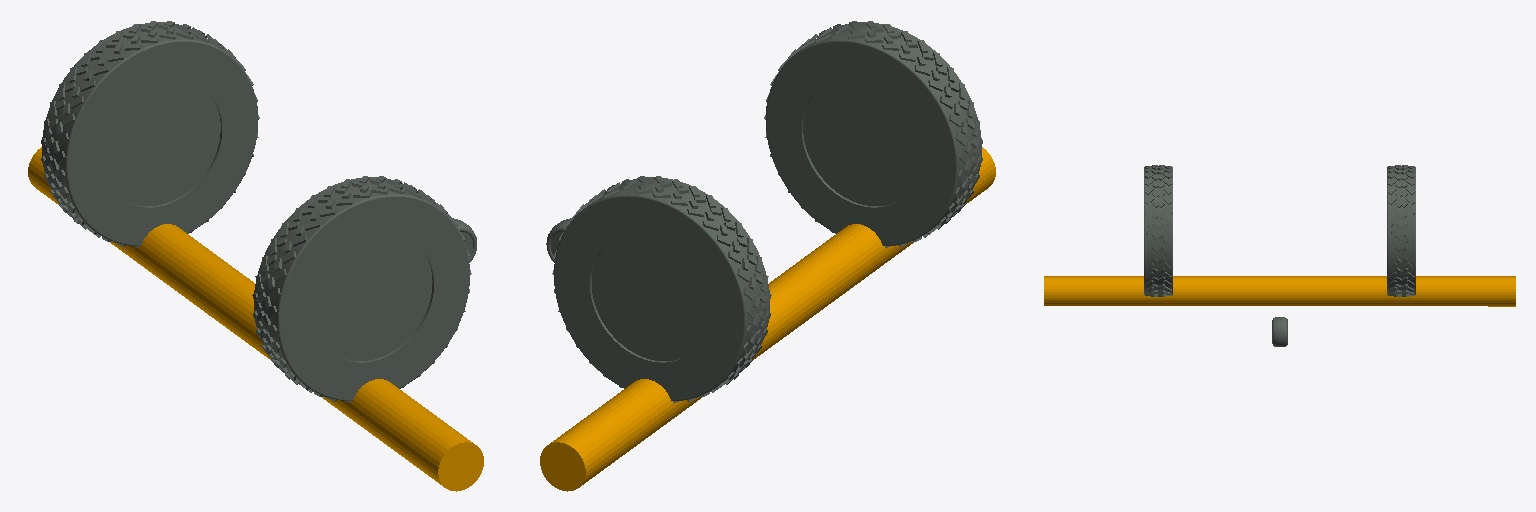
robot.urdf — my_robot:
<?xml version="1.0" ?>
<!-- =================================================================================== -->
<!-- |    This document was autogenerated by xacro from robot.xacro                    | -->
<!-- |    EDITING THIS FILE BY HAND IS NOT RECOMMENDED                                 | -->
<!-- =================================================================================== -->
<robot name="my_robot">
  <link name="base_link">
    <visual>
      <origin rpy="1.57075 0.0 0.0" xyz="0.0 0.0 0.0"/>
      <geometry>
        <cylinder length="0.62" radius="0.02"/>
      </geometry>
    </visual>
  </link>
  <!-- Material Definitions -->
  <material name="black">
    <color rgba="0.0 0.0 0.0 1.0"/>
  </material>
  <material name="white">
    <color rgba="1.0 1.0 1.0 1.0"/>
  </material>
  <material name="blue">
    <color rgba="0.0 0.0 1.0 1.0"/>
  </material>
  <material name="green">
    <color rgba="0.0 1.0 0.0 1.0"/>
  </material>
  <material name="roda">
    <color rgba="0.4 0.4313 0.40784 1.0"/>
  </material>
  <!-- Link Definitions -->
  <link name="body_link">
    <visual>
      <origin rpy="0.0 0.0 0.0" xyz="0.0 0.0 0.0875"/>
      <geometry>
        <mesh filename="package://my_robot_description/meshes/UpperBody1v13.stl" scale="1 1 1"/>
      </geometry>
      <material name="black"/>
    </visual>
    <collision>
      <origin rpy="0.0 0.0 0.0" xyz="0.0 0.0 0.0875"/>
      <geometry>
        <mesh filename="package://my_robot_description/meshes/UpperBody1v13.stl" scale="1 1 1"/>
      </geometry>
    </collision>
    <inertial>
      <origin rpy="0.0 0.0 0.0" xyz="0.0 0.0 0.0875"/>
      <mass value="1.0"/>
      <inertia ixx="1" ixy="0" ixz="0" iyy="1" iyz="0" izz="1"/>
    </inertial>
  </link>
  <link name="right_wheel">
    <visual>
      <origin rpy="0.0 0.0 0" xyz="0.0 0 0"/>
      <geometry>
        <mesh filename="package://my_robot_description/meshes/wheel.stl" scale="1 1 1"/>
      </geometry>
      <material name="roda"/>
    </visual>
    <collision>
      <origin rpy="0.0 0.0 0" xyz="0.0 0 0"/>
      <geometry>
        <mesh filename="package://my_robot_description/meshes/wheel.stl" scale="1 1 1"/>
      </geometry>
    </collision>
    <inertial>
      <mass value="0.5"/>
      <origin rpy="0.0 0.0 0" xyz="0.0 0 0"/>
      <inertia ixx="0.001" ixy="0.0" ixz="0.0" iyy="0.001" iyz="0.0" izz="0.001"/>
    </inertial>
  </link>
  <link name="left_wheel">
    <visual>
      <origin rpy="0.0 0.0 0" xyz="0.0 0 0"/>
      <geometry>
        <mesh filename="package://my_robot_description/meshes/wheel.stl" scale="1 1 1"/>
      </geometry>
      <material name="roda"/>
    </visual>
    <collision>
      <origin rpy="0.0 0.0 0" xyz="0.0 0 0"/>
      <geometry>
        <mesh filename="package://my_robot_description/meshes/wheel.stl" scale="1 1 1"/>
      </geometry>
    </collision>
    <inertial>
      <mass value="0.5"/>
      <origin rpy="0.0 0.0 0" xyz="0.0 0 0"/>
      <inertia ixx="0.001" ixy="0.0" ixz="0.0" iyy="0.001" iyz="0.0" izz="0.001"/>
    </inertial>
  </link>
  <link name="small_wheel">
    <visual>
      <origin rpy="0.0 0.0 0" xyz="0.0 0 0"/>
      <geometry>
        <mesh filename="package://my_robot_description/meshes/small_wheel.stl" scale="1 1 1"/>
      </geometry>
      <material name="roda"/>
    </visual>
    <collision>
      <origin rpy="0.0 0.0 0" xyz="0.0 0 0"/>
      <geometry>
        <mesh filename="package://my_robot_description/meshes/small_wheel.stl" scale="1 1 1"/>
      </geometry>
    </collision>
    <inertial>
      <mass value="0.5"/>
      <origin rpy="0.0 0.0 0" xyz="0.0 0 0"/>
      <inertia ixx="0.001" ixy="0.0" ixz="0.0" iyy="0.001" iyz="0.0" izz="0.001"/>
    </inertial>
  </link>
  <joint name="body_link" type="fixed">
    <parent link="base_link"/>
    <child link="body_link"/>
    <origin rpy="0.0 0.0 0.0" xyz="0.0 0.0 0.0"/>
  </joint>
  <joint name="right_wheel_joint" type="revolute">
    <parent link="body_link"/>
    <child link="right_wheel"/>
    <origin rpy="0.0 0.0 0" xyz="0.0 0.16 0.0875"/>
    <axis xyz="0 1 0"/>
    <limit effort="10" lower="-3.14" upper="3.14" velocity="40"/>
  </joint>
  <joint name="left_wheel_jount" type="revolute">
    <parent link="body_link"/>
    <child link="left_wheel"/>
    <origin rpy="0.0 0.0 0" xyz="0.0 -0.16 0.0875"/>
    <axis xyz="0 1 0"/>
    <limit effort="10" lower="-3.14" upper="3.14" velocity="40"/>
  </joint>
  <joint name="small_wheel_joint" type="revolute">
    <parent link="body_link"/>
    <child link="small_wheel"/>
    <origin rpy="0.0 0.0 0" xyz="0.17 0.0 0.02"/>
    <axis xyz="0 1 0"/>
    <limit effort="10" lower="-3.14" upper="3.14" velocity="40"/>
  </joint>
</robot>

--- What the picture shows (computed from the rendered views, not written in the file) ---
Views: 3 orthographic renders of the robot side by side, from view 1: azimuth 30°, elevation 25°; view 2: azimuth 150°, elevation 25°; view 3: azimuth 270°, elevation 25°.
Model my_robot with 5 links and 4 joints (3 revolute, 1 fixed), rooted at base_link, posed all joints at 0.
Visible links, largest first — view 1: right_wheel, left_wheel, base_link; view 2: left_wheel, right_wheel, base_link; view 3: base_link, right_wheel, left_wheel.
Boxes of the visible links, x1=… form: right_wheel: x1=41, y1=21, x2=259, y2=247; left_wheel: x1=252, y1=176, x2=471, y2=402; base_link: x1=28, y1=147, x2=483, y2=491; left_wheel: x1=764, y1=21, x2=982, y2=247; right_wheel: x1=552, y1=176, x2=771, y2=402; base_link: x1=540, y1=147, x2=995, y2=491; base_link: x1=1044, y1=276, x2=1515, y2=306; right_wheel: x1=1387, y1=165, x2=1415, y2=296; left_wheel: x1=1144, y1=165, x2=1172, y2=296.
Size in the robot's own frame: 0.2771 by 0.62 by 0.1948 metres.
Meshes: 3 distinct files referenced, 3 mesh visuals loaded (2 binary STL); not drawn: 1 (reference not matched to a file when rendering).